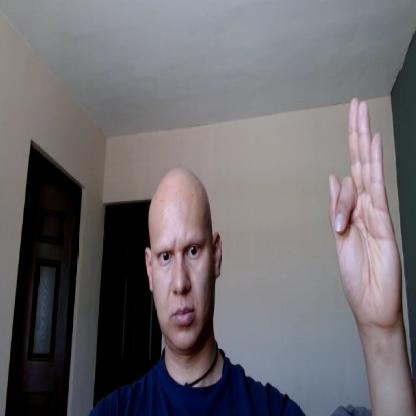F: (328, 95, 404, 326)
